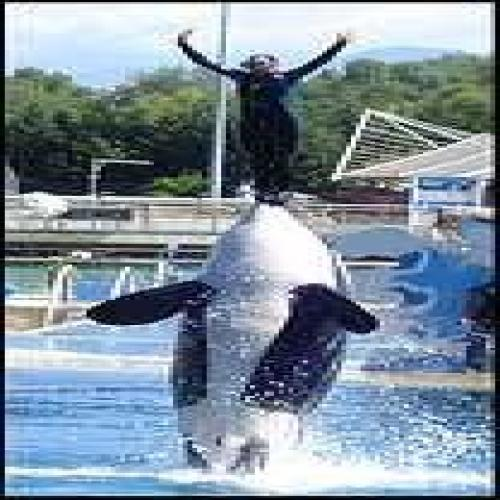killer_whale-endangered: (82, 199, 394, 472)
